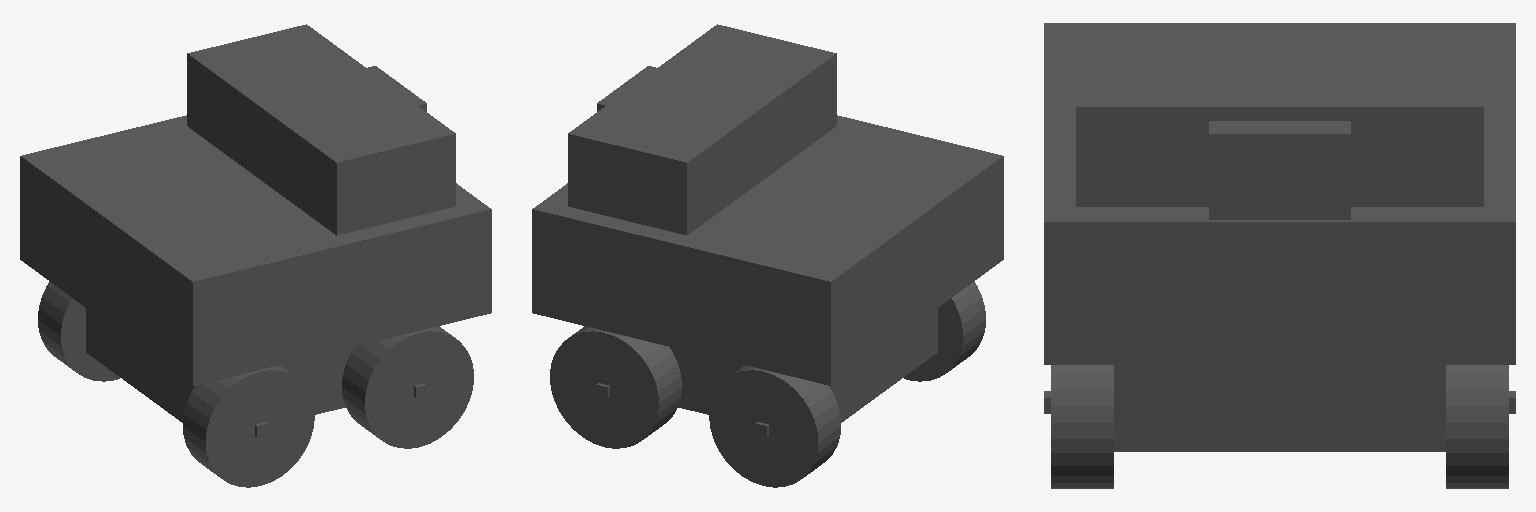
robot.urdf — tbot:
<?xml version="1.0" encoding="utf-8"?>
<robot name="tbot" xmlns:xacro="http://www.ros.org/wiki/xacro">
<material name="black">
<color rgba="0.0 0.0 0.0 1.0"/>
</material>
<material name="white">
<color rgba="1.0 1.0 1.0 1.0"/>
</material>
<material name="darkgrey">
<color rgba="0.1 0.1 0.1 1.0"/>
</material>
<material name="grey">
<color rgba="0.4 0.4 0.4 1.0"/>
</material>
<material name="midgrey">
<color rgba="0.5 0.5 0.5 1.0"/>
</material>
<material name="lightgrey">
<color rgba="0.8 0.8 0.8 1.0"/>
</material>
<material name="blue">
<color rgba="0.2 0.2 0.8 1.0"/>
</material>
<material name="green">
<color rgba="0.0 0.8 0.0 1.0"/>
</material>
<material name="red">
<color rgba="0.8 0.1 0.1 1.0"/>
</material>
<material name="yellow">
<color rgba="0.8 0.8 0.0 1.0"/>
</material>
<material name="orange">
<color rgba="0.9 0.4 0.0 1.0"/>
</material>
<material name="brown">
<color rgba="0.9 0.8 0.7 1.0"/>
</material>
<link name="body">
<inertial>
<mass value="3.0"/>
<origin rpy="0 0 0" xyz="0 0 0.125"/>
<inertia ixx="0.02882" ixy="0.0" ixz="0.0" iyy="0.02882" iyz="0.0" izz="0.045"/>
</inertial>
<visual>
<origin rpy="0 0 0" xyz="0 0 0.164"/>
<geometry>
<box size="0.3 0.3 0.1"/>
</geometry>
<material name="grey"/>
</visual>
<collision>
<origin rpy="0 0 0" xyz="0 0 0.164"/>
<geometry>
<box size="0.3 0.3 0.1"/>
</geometry>
</collision>
</link>
<link name="motors_fused">
<visual>
<origin rpy="0 0 0" xyz="0 0 -0.04"/>
<geometry>
<box size="0.22 0.212 0.08"/>
</geometry>
<material name="grey"/>
</visual>
</link>
<link name="board">
<visual>
<origin rpy="0 0 0" xyz="0 0 0.035"/>
<geometry>
<box size="0.12 0.26 0.07"/>
</geometry>
<material name="grey"/>
</visual>
</link>
<link name="sensor">
<visual>
<origin rpy="0 0 0" xyz="0.01 0 0"/>
<geometry>
<box size="0.02 0.09 0.06"/>
</geometry>
<material name="grey"/>
</visual>
</link>
<link name="wheel_1_left">
<inertial>
<mass value="0.75"/>
<origin rpy="1.57079632675 0 0" xyz="0 0.02 0.0"/>
<inertia ixx="0.000667" ixy="0.0" ixz="0.0" iyy="0.000667" iyz="0.0" izz="0.001134"/>
</inertial>
<visual>
<origin rpy="1.57079632675 0 0" xyz="0 0.02 0.0"/>
<geometry>
<cylinder radius="0.055" length="0.04"/>
</geometry>
<material name="grey"/>
</visual>
<collision>
<origin rpy="1.57079632675 0 0" xyz="0 0.02 0.0"/>
<geometry>
<cylinder radius="0.055" length="0.04" />
</geometry>
</collision>
</link>
<link name="wheel_2_right">
<inertial>
<mass value="0.75"/>
<origin rpy="1.57079632675 0 0" xyz="0 -0.02 0.0"/>
<inertia ixx="0.000667" ixy="0.0" ixz="0.0" iyy="0.000667" iyz="0.0" izz="0.001134"/>
</inertial>
<visual>
<origin rpy="1.57079632675 0 0" xyz="0 -0.02 0.0"/>
<geometry>
<cylinder radius="0.055" length="0.04"/>
</geometry>
<material name="grey"/>
</visual>
<collision>
<origin rpy="1.57079632675 0 0" xyz="0 -0.02 0.0"/>
<geometry>
<cylinder radius="0.055" length="0.04"/>
</geometry>
</collision>
</link>
<link name="wheel_3_left">
<inertial>
<mass value="0.75"/>
<origin rpy="1.57079632675 0 0" xyz="0 0.02 0.0"/>
<inertia ixx="0.000667" ixy="0.0" ixz="0.0" iyy="0.000667" iyz="0.0" izz="0.001134"/>
</inertial>
<visual>
<origin rpy="1.57079632675 0 0" xyz="0 0.02 0.0"/>
<geometry>
<cylinder radius="0.055" length="0.04"/>
</geometry>
<material name="grey"/>
</visual>
<collision>
<origin rpy="1.57079632675 0 0" xyz="0 0.02 0.0"/>
<geometry>
<cylinder radius="0.055" length="0.04"/>
</geometry>
</collision>
</link>
<link name="wheel_4_right">
<inertial>
<mass value="0.75"/>
<origin rpy="1.57079632675 0 0" xyz="0 -0.02 0.0"/>
<inertia ixx="0.000667" ixy="0.0" ixz="0.0" iyy="0.000667" iyz="0.0" izz="0.001134"/>
</inertial>
<visual>
<origin rpy="1.57079632675 0 0" xyz="0 -0.02 0.0"/>
<geometry>
<cylinder radius="0.055" length="0.04"/>
</geometry>
<material name="grey"/>
</visual>
<collision>
<origin rpy="1.57079632675 0 0" xyz="0 -0.02 0.0"/>
<geometry>
<cylinder radius="0.055" length="0.04"/>
</geometry>
</collision>
</link>
<link name="rotdot_1_left">
<visual>
<origin rpy="1.57079632675 0 0" xyz="0 0.002 0"/>
<geometry>
<box size="0.011 0.011 0.004"/>
</geometry>
<material name="grey"/>
</visual>
</link>
<link name="rotdot_2_right">
<visual>
<origin rpy="1.57079632675 0 0" xyz="0 -0.002 0"/>
<geometry>
<box size="0.011 0.011 0.004"/>
</geometry>
<material name="grey"/>
</visual>
</link>
<link name="rotdot_3_left">
<visual>
<origin rpy="1.57079632675 0 0" xyz="0 0.002 0"/>
<geometry>
<box size="0.011 0.011 0.004"/>
</geometry>
<material name="grey"/>
</visual>
</link>
<link name="rotdot_4_right">
<visual>
<origin rpy="1.57079632675 0 0" xyz="0 -0.002 0"/>
<geometry>
<box size="0.011 0.011 0.004"/>
</geometry>
<material name="grey"/>
</visual>
</link>
<joint name="body_motors_glue" type="fixed">
<parent link="body"/>
<child link="motors_fused"/>
<origin xyz="0.0 0.0 0.114"/>
</joint>
<joint name="body_board_glue" type="fixed">
<parent link="body"/>
<child link="board"/>
<origin xyz="0.066 0 0.214"/>
</joint>
<joint name="board_sensor_glue" type="fixed">
<parent link="board"/>
<child link="sensor"/>
<origin xyz="0.06 0 0.03"/>
</joint>
<joint name="wheel_rotdot_1_glue" type="fixed">
<parent link="wheel_1_left"/>
<child link="rotdot_1_left"/>
<origin xyz="0 0.04 0"/>
</joint>
<joint name="wheel_rotdot_2_glue" type="fixed">
<parent link="wheel_2_right"/>
<child link="rotdot_2_right"/>
<origin xyz="0 -0.04 0"/>
</joint>
<joint name="wheel_rotdot_3_glue" type="fixed">
<parent link="wheel_3_left"/>
<child link="rotdot_3_left"/>
<origin xyz="0 0.04 0"/>
</joint>
<joint name="wheel_rotdot_4_glue" type="fixed">
<parent link="wheel_4_right"/>
<child link="rotdot_4_right"/>
<origin xyz="0 -0.04 0"/>
</joint>
<joint name="wheel_1_axis" type="continuous">
<parent link="body"/>
<child link="wheel_1_left"/>
<origin xyz="0.08 0.106 0.055" rpy="0 0 0" />
<axis xyz="0 1 0" rpy="0 0 0" />
<dynamics damping="0.0" friction="0.0" />
</joint>
<joint name="wheel_2_axis" type="continuous">
<parent link="body"/>
<child link="wheel_2_right"/>
<origin xyz="0.08 -0.106 0.055" rpy="0 0 0" />
<axis xyz="0 1 0" rpy="0 0 0" />
<dynamics damping="0.0" friction="0.0" />
</joint>
<joint name="wheel_3_axis" type="continuous">
<parent link="body"/>
<child link="wheel_3_left"/>
<origin xyz="-0.08 0.106 0.055" rpy="0 0 0" />
<axis xyz="0 1 0" rpy="0 0 0" />
<dynamics damping="0.0" friction="0.0" />
</joint>
<joint name="wheel_4_axis" type="continuous">
<parent link="body"/>
<child link="wheel_4_right"/>
<origin xyz="-0.08 -0.106 0.055" rpy="0 0 0" />
<axis xyz="0 1 0" rpy="0 0 0" />
<dynamics damping="0.0" friction="0.0" />
</joint>
</robot>

--- Facts derived from the render (not from the file) ---
3 views of the same robot in one strip: view 1: azimuth 30°, elevation 25°; view 2: azimuth 150°, elevation 25°; view 3: azimuth 270°, elevation 25° (orthographic).
Model tbot with 12 links and 11 joints (4 continuous, 7 fixed), rooted at body, posed all joints at 0.
Visible links, largest first — view 1: body, board, wheel_2_right, wheel_4_right, motors_fused, wheel_3_left; view 2: body, board, wheel_1_left, wheel_3_left, motors_fused, wheel_4_right; view 3: body, board, motors_fused, sensor, wheel_1_left, wheel_2_right.
Boxes of the visible links, box(x1,y1,x2,y2) form: body: box(20, 115, 491, 385); board: box(187, 24, 455, 235); wheel_2_right: box(342, 326, 473, 448); wheel_4_right: box(183, 365, 314, 487); motors_fused: box(86, 308, 353, 422); wheel_3_left: box(38, 281, 119, 381); body: box(532, 115, 1003, 385); board: box(568, 24, 836, 235); wheel_1_left: box(550, 326, 681, 448); wheel_3_left: box(709, 365, 840, 487); motors_fused: box(670, 308, 937, 422); wheel_4_right: box(904, 281, 985, 381); body: box(1044, 23, 1515, 364); board: box(1076, 27, 1483, 206); motors_fused: box(1114, 365, 1445, 451); sensor: box(1209, 121, 1350, 219); wheel_1_left: box(1446, 365, 1508, 488); wheel_2_right: box(1051, 365, 1113, 488).
Bounding box of the posed robot: 0.3 × 0.3 × 0.284 m (x, y, z).
Geometry: primitives only (box / cylinder / sphere), no mesh files.
